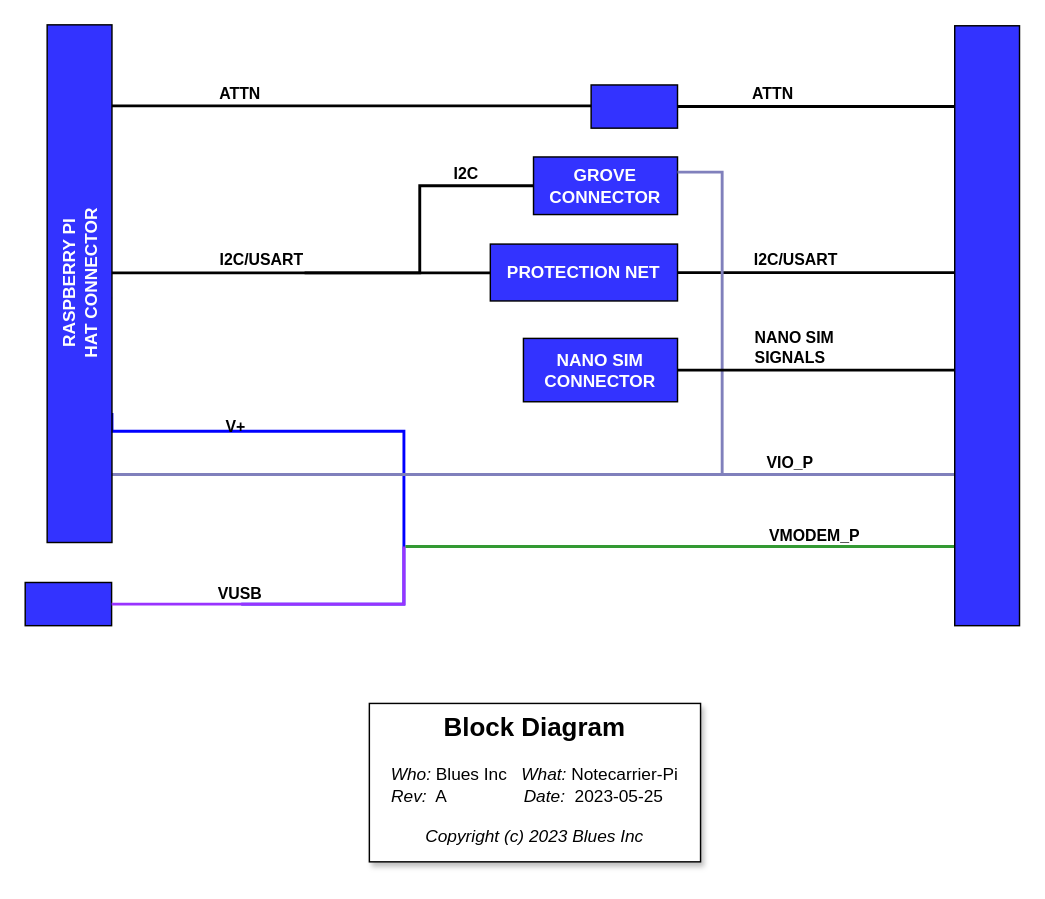
The diagram is 1045 pixels wide and 899 high, and some of its shapes have lost their labels. The centre of each missing label's shape, as x and y in pixels:
"DIP-SW" belongs at [634,106].
"M.2 CONNECTOR KEY E" belongs at [986,325].
"uUSB" belongs at [68,603].
